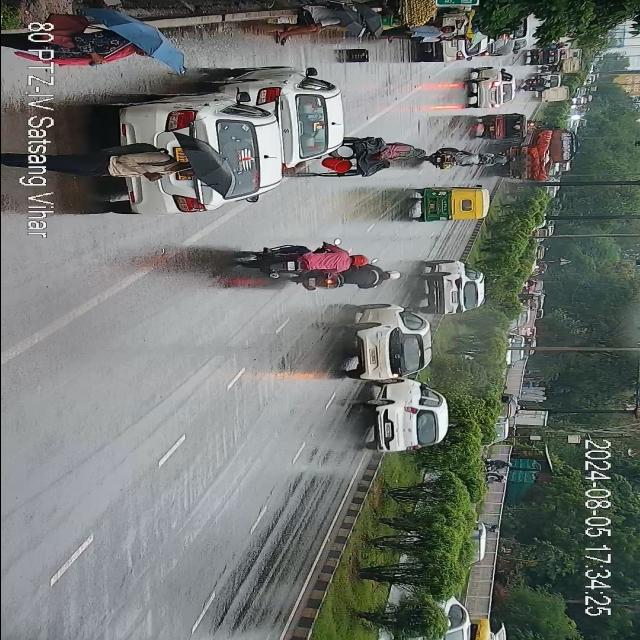2-wheelers: (237, 247, 367, 290), (427, 146, 488, 172), (485, 453, 517, 473)
auto: (366, 382, 446, 458), (328, 138, 433, 182), (454, 526, 496, 624), (408, 186, 483, 228), (511, 280, 543, 326), (478, 114, 526, 144), (489, 392, 515, 441), (526, 50, 560, 70)
car: (100, 78, 286, 218), (237, 68, 341, 166), (343, 309, 428, 387), (419, 258, 482, 320), (470, 68, 514, 114), (426, 600, 476, 640)
pedestrian: (52, 22, 170, 74), (62, 146, 198, 188), (278, 5, 357, 44), (382, 25, 454, 42)
truck: (505, 129, 567, 185)
